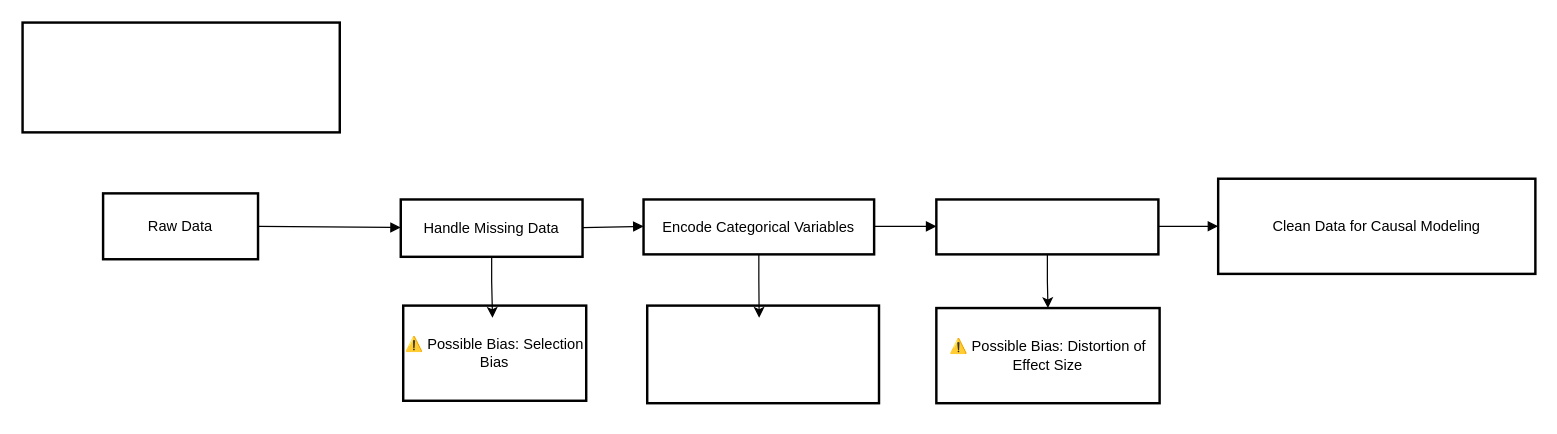
This 1557x434 diagram has some shape labels left out. The centre of each missing label's shape, as x and y in pixels:
"Scale / Normalize Features" belongs at (x=1047, y=226).
"Title: Causal Data Preparation Flow" belongs at (x=180, y=77).
"⚠️ Possible Bias: Artificial Causality" belongs at (x=762, y=354).
